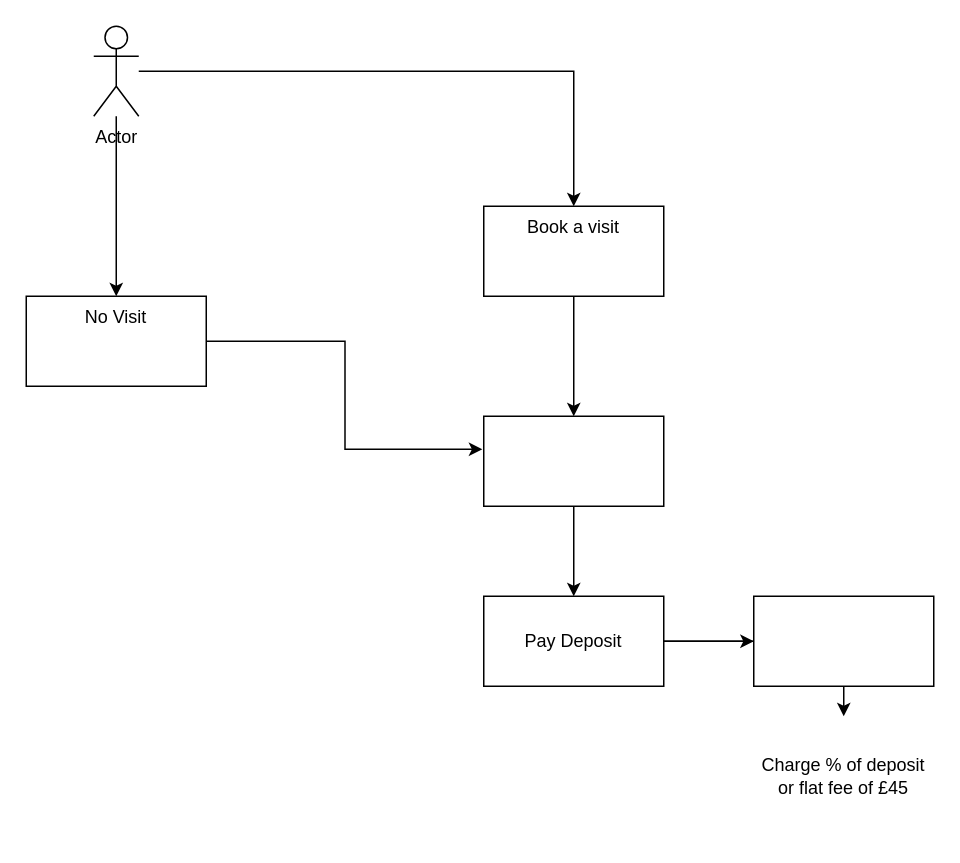
Image size: 960x863. Some labels were removed from this diagram. Each missing label, with the centre of its shape:
"Assesment" belongs at (573,460).
"Stripe" belongs at (843,640).
